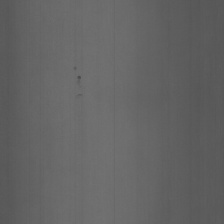oil_spot: (69, 55, 86, 82)
